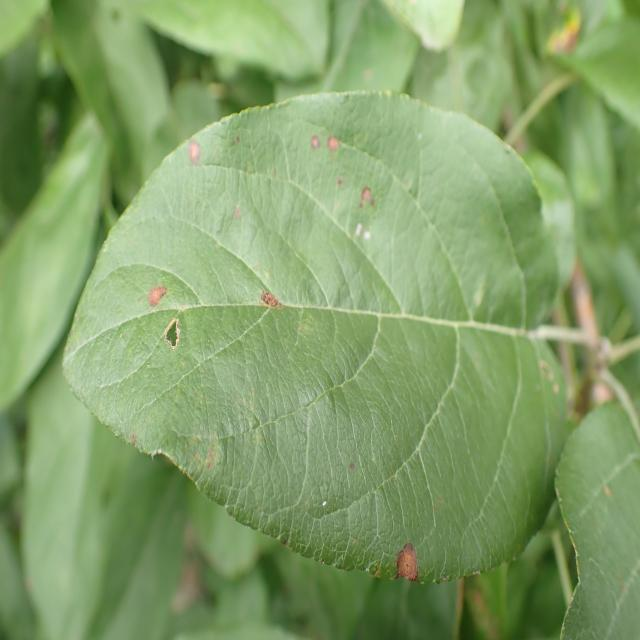Black Rot: (324, 156, 397, 249), (376, 522, 444, 620), (290, 111, 374, 163), (155, 308, 197, 398), (256, 270, 294, 336), (182, 126, 214, 191), (133, 267, 171, 319), (222, 191, 252, 237)
